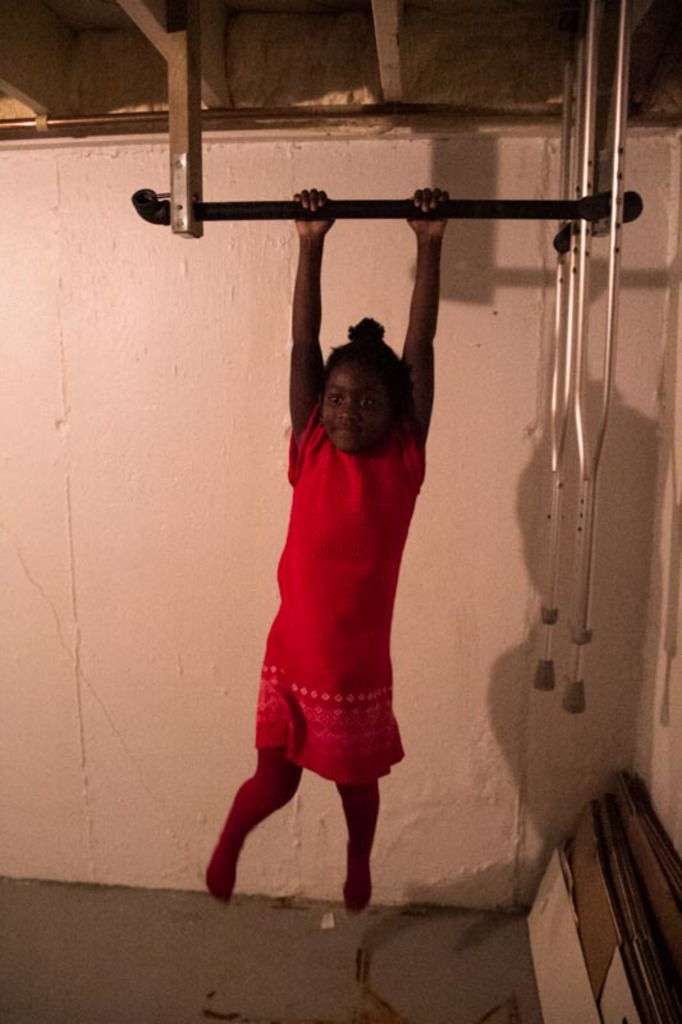Person: (206, 187, 449, 915)
